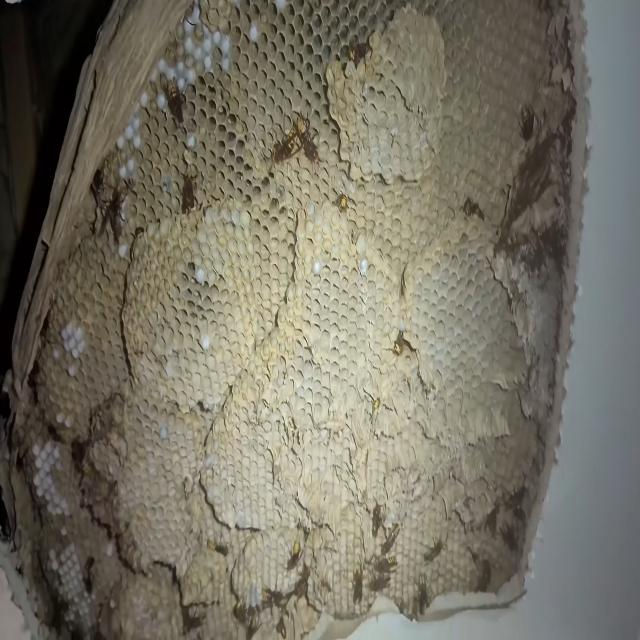Hornets: (262, 112, 300, 176), (292, 112, 320, 165), (161, 74, 185, 127), (422, 532, 449, 566), (207, 531, 232, 557), (372, 555, 398, 577)
